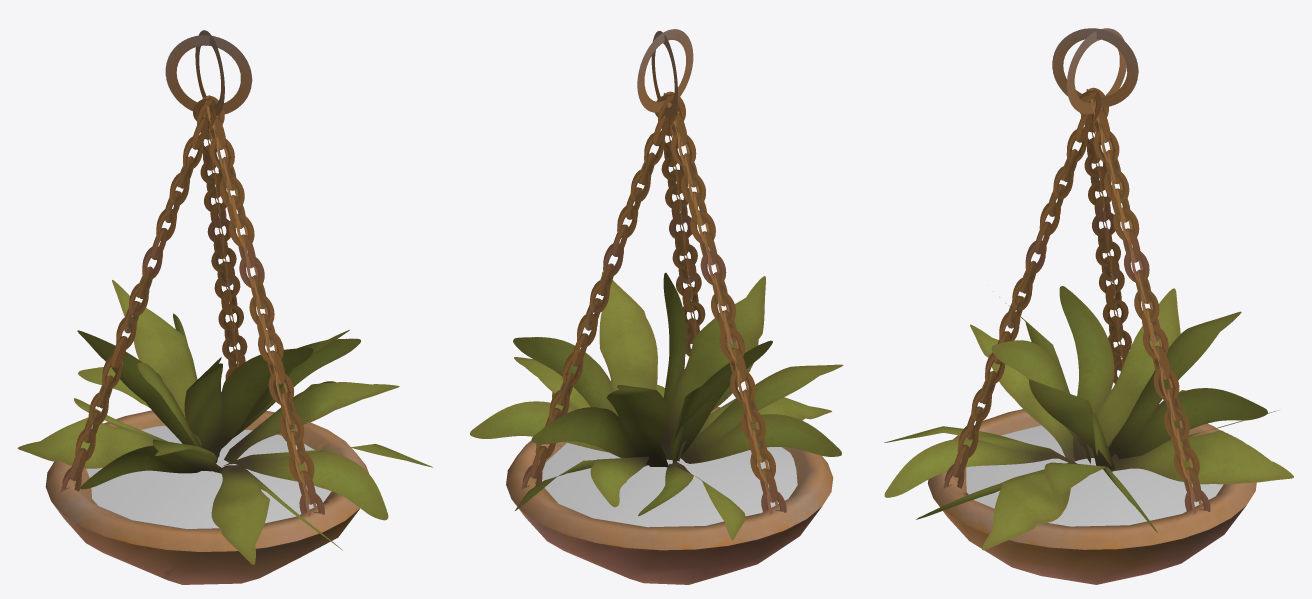
Rendered from SM_Potion_Props_FlowerPot_03_B.fbx.
3 renders of one model, left to right at view 1: azimuth 30°, elevation 25°; view 2: azimuth 150°, elevation 25°; view 3: azimuth 270°, elevation 25°, orthographic.
Parts seen in each view (by area): view 1: SM_Potion_Props_FlowerPot_03_B_LOD0; view 2: SM_Potion_Props_FlowerPot_03_B_LOD0; view 3: SM_Potion_Props_FlowerPot_03_B_LOD0.
Part boxes in pixels (x1,y1,x2,y2): SM_Potion_Props_FlowerPot_03_B_LOD0: (17,30,432,584); SM_Potion_Props_FlowerPot_03_B_LOD0: (470,29,843,584); SM_Potion_Props_FlowerPot_03_B_LOD0: (884,28,1293,584).
Size of what is drawn, in the model's own units: 40.83 by 63.75 by 44.87.
